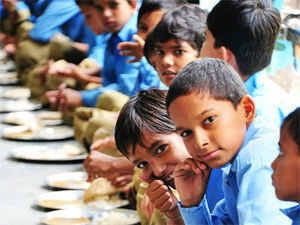student: (165, 79, 258, 170), (113, 86, 192, 183), (207, 1, 273, 78), (151, 6, 205, 85), (274, 108, 300, 205), (135, 1, 168, 46), (94, 1, 134, 34), (73, 1, 103, 35)
